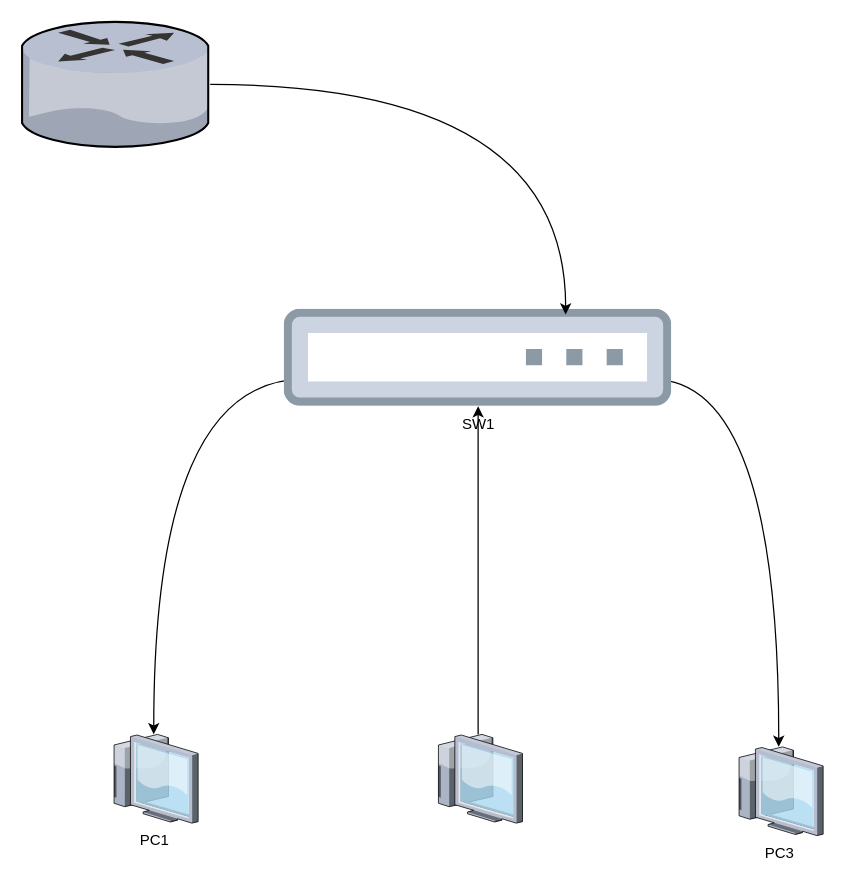
This 844x883 diagram has some shape labels left out. Each missing label, with the box of its shape:
Firewall: (21, 21, 210, 146)
PC2: (433, 734, 522, 822)
